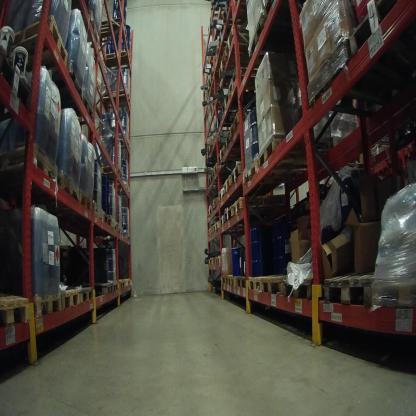pallet: (346, 4, 413, 73), (10, 9, 75, 62), (305, 40, 353, 110), (3, 140, 58, 199), (247, 13, 313, 58), (323, 264, 377, 311), (257, 135, 337, 166), (242, 156, 314, 189), (24, 61, 86, 98), (2, 44, 32, 107), (373, 265, 414, 310), (0, 286, 36, 334), (217, 51, 276, 80), (231, 197, 289, 225), (48, 98, 96, 126), (285, 269, 325, 301), (219, 136, 266, 161), (33, 290, 64, 327), (99, 84, 134, 115), (92, 12, 128, 42), (226, 24, 257, 55), (263, 267, 296, 294), (228, 108, 256, 139), (60, 170, 80, 210), (61, 283, 84, 316), (101, 129, 135, 151), (100, 47, 132, 67), (88, 275, 115, 298), (99, 161, 124, 185), (113, 178, 136, 203), (223, 176, 249, 198), (223, 79, 242, 108), (77, 188, 94, 218), (229, 162, 253, 182), (220, 2, 243, 22), (217, 21, 231, 52), (248, 273, 266, 293), (222, 205, 236, 230), (211, 159, 224, 180), (94, 199, 104, 224), (237, 275, 250, 294), (78, 287, 91, 306), (111, 272, 120, 299), (102, 207, 113, 228), (214, 43, 223, 68), (210, 197, 223, 213), (215, 189, 227, 204), (209, 65, 216, 88), (228, 275, 238, 290), (212, 218, 220, 236), (118, 275, 126, 293), (215, 254, 225, 267), (208, 226, 216, 242), (110, 217, 118, 232), (124, 275, 132, 289), (221, 275, 229, 287), (207, 205, 215, 217), (209, 256, 215, 268)
